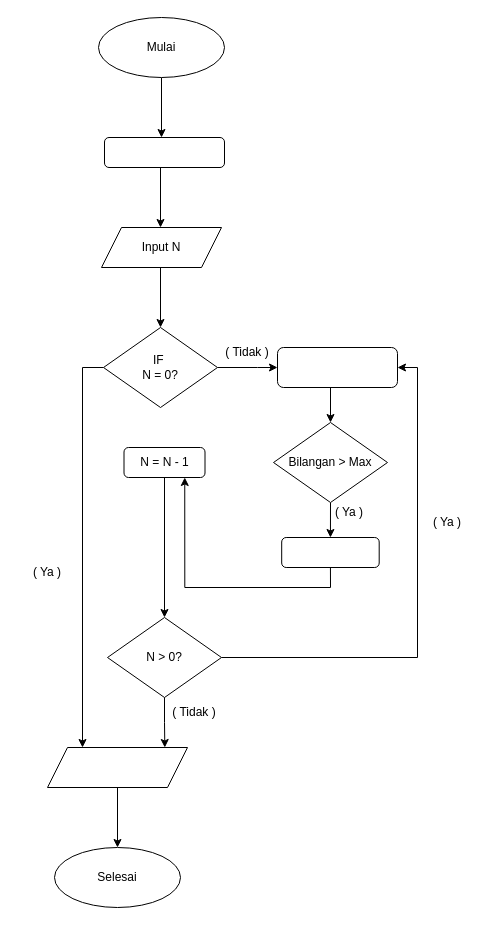
Some shapes in this 494 by 925 pixel diagram are drawn without their labels. The shapes that lost their labels are listed below. From the top down, each one's centre as x and y in pixels, then its label:
pixel 164 152: Inisialisasi max = - ∞
pixel 337 367: Input Bilangan
pixel 330 552: Max = Bilangan
pixel 117 767: Tampilkan Max
